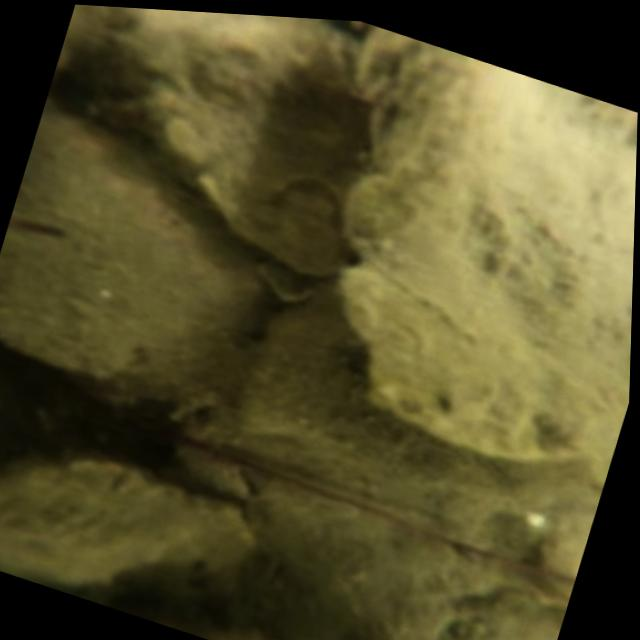Oyster-Indeterminate: (346, 28, 638, 474), (55, 4, 361, 277), (0, 105, 269, 409), (0, 459, 251, 587)
